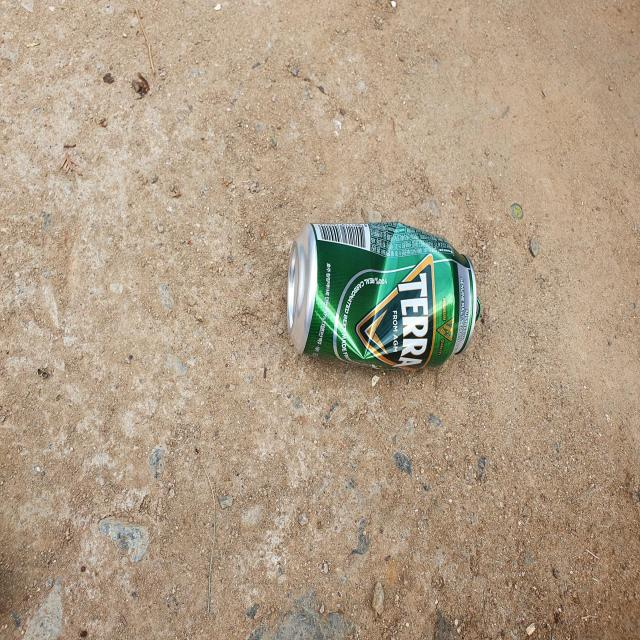can: (287, 221, 482, 369)
